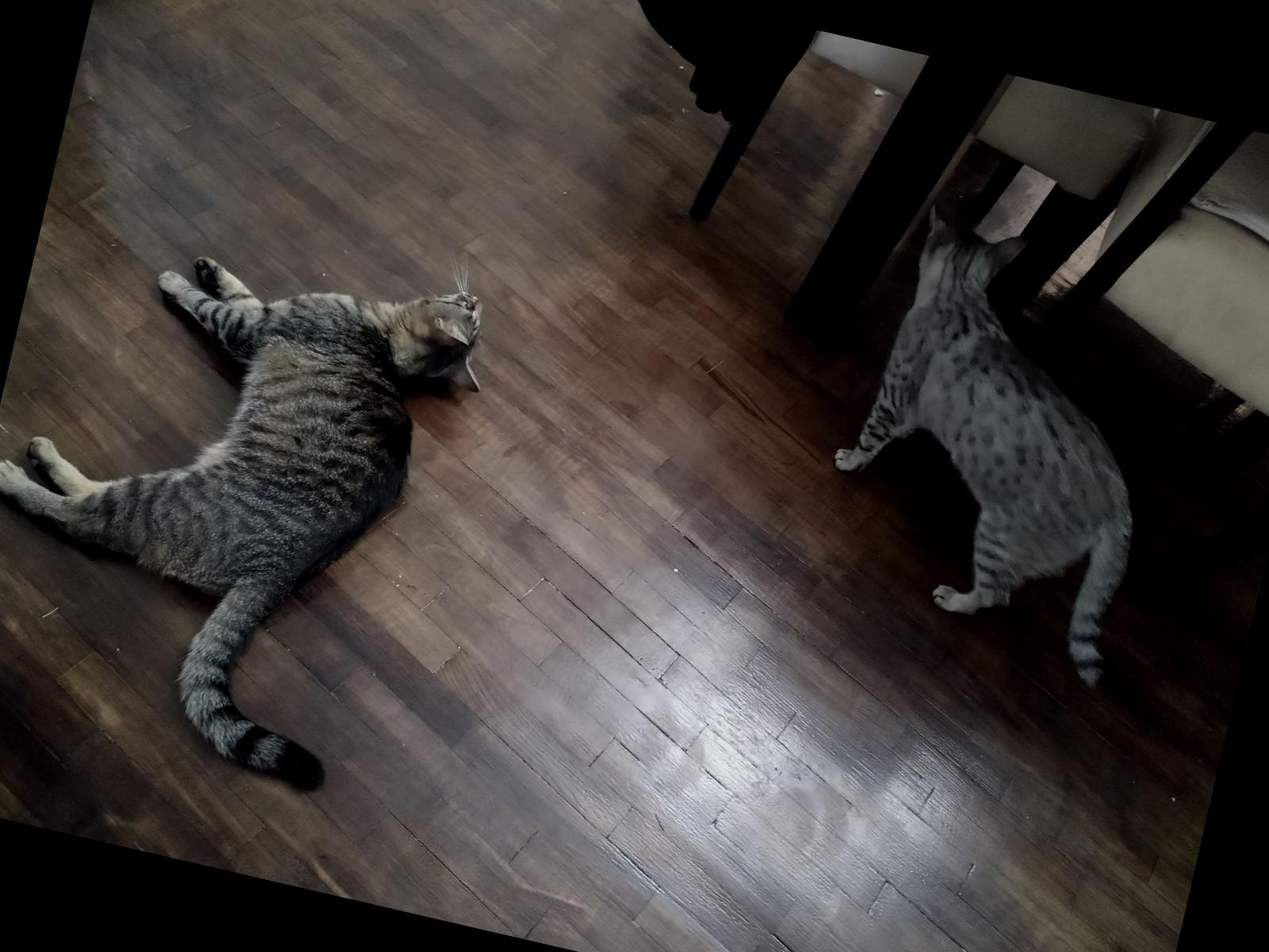macka: (0, 197, 506, 812), (788, 191, 1218, 710)
